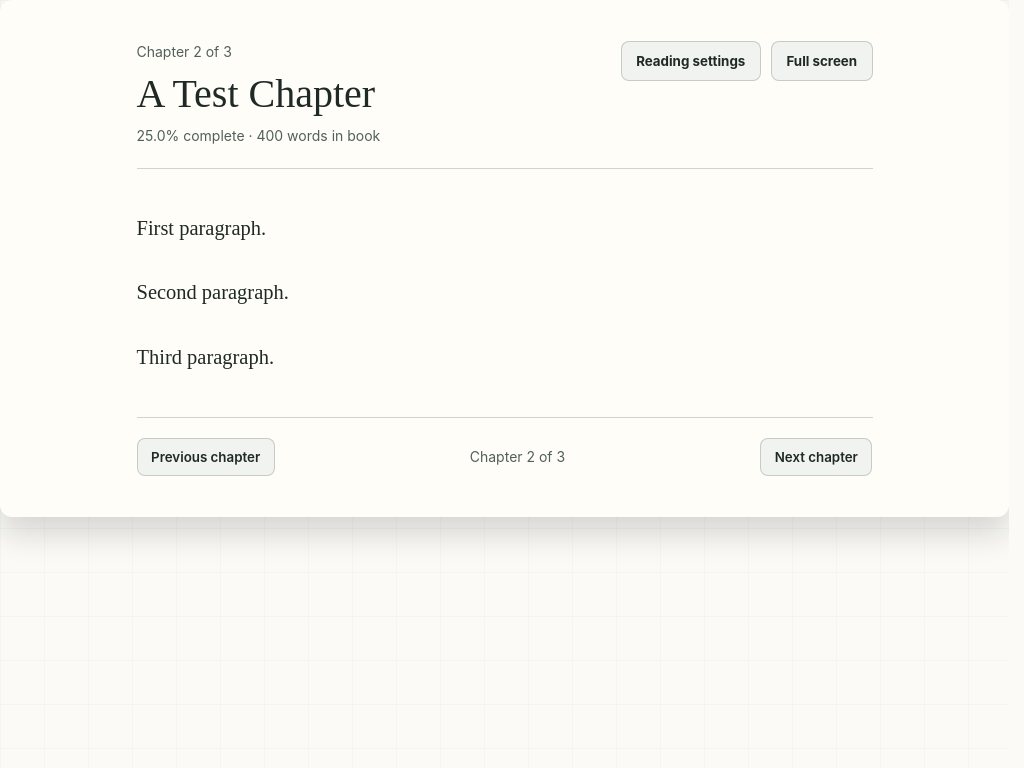
Test case: ImmersiveReader fullscreen › requests fullscreen and switches to continuous chapter flow
The image size is (1024, 768).
Step 1. Click the button "Full screen" → coordinates (822, 61), box 771,41 -> 872,81
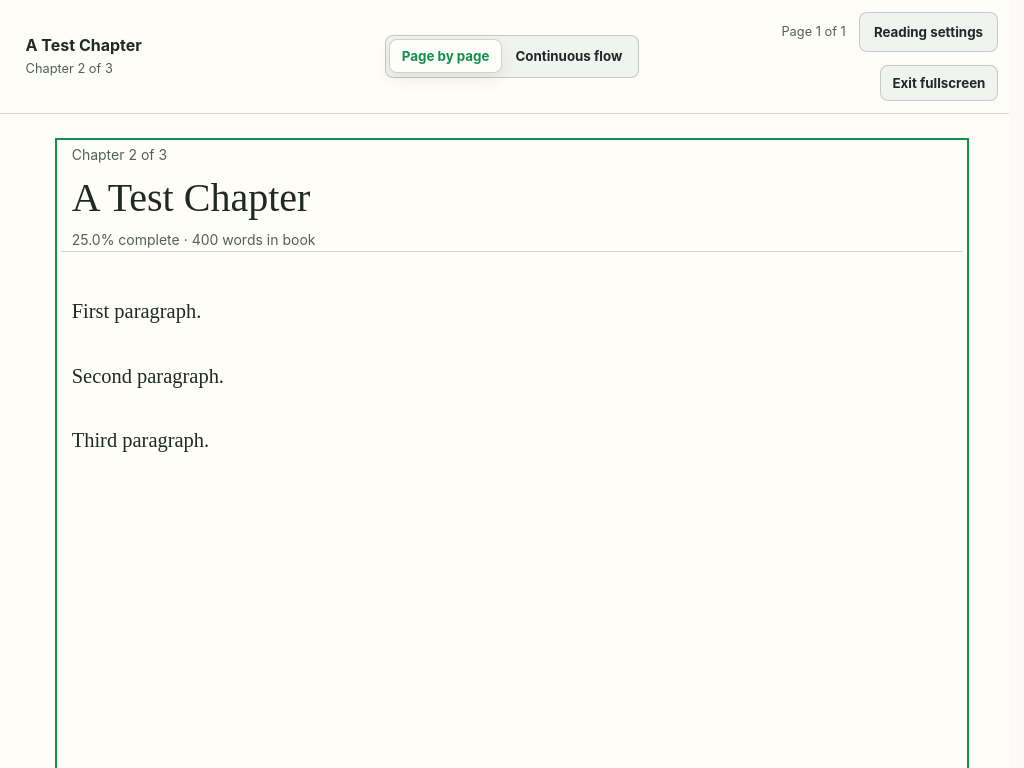
Result: the text "Page 1 of 1" is shown at 781,22 -> 846,42
Step 2. Click the button "Continuous flow" → coordinates (569, 56), box 502,39 -> 635,73
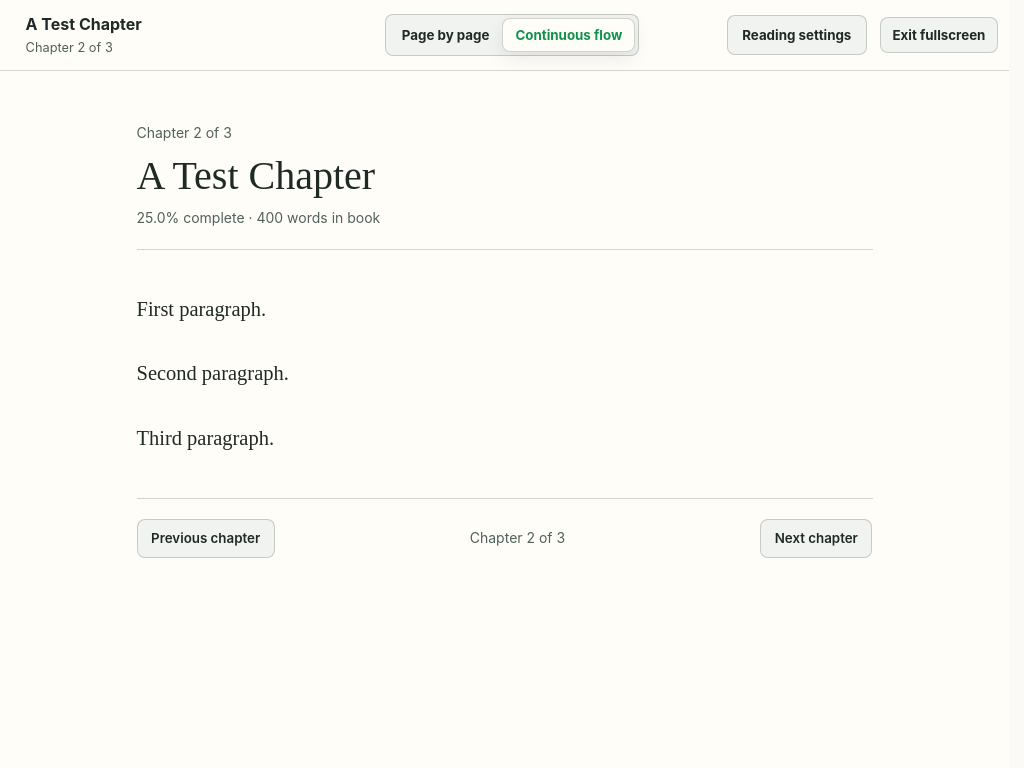
Expected: the text "First paragraph." is shown, 136,298 -> 266,320
Result: the element with class "continuous-viewport" is shown at 136,122 -> 872,558
Step 3. Click the button "Page by page" → coordinates (446, 35), box 389,18 -> 502,52
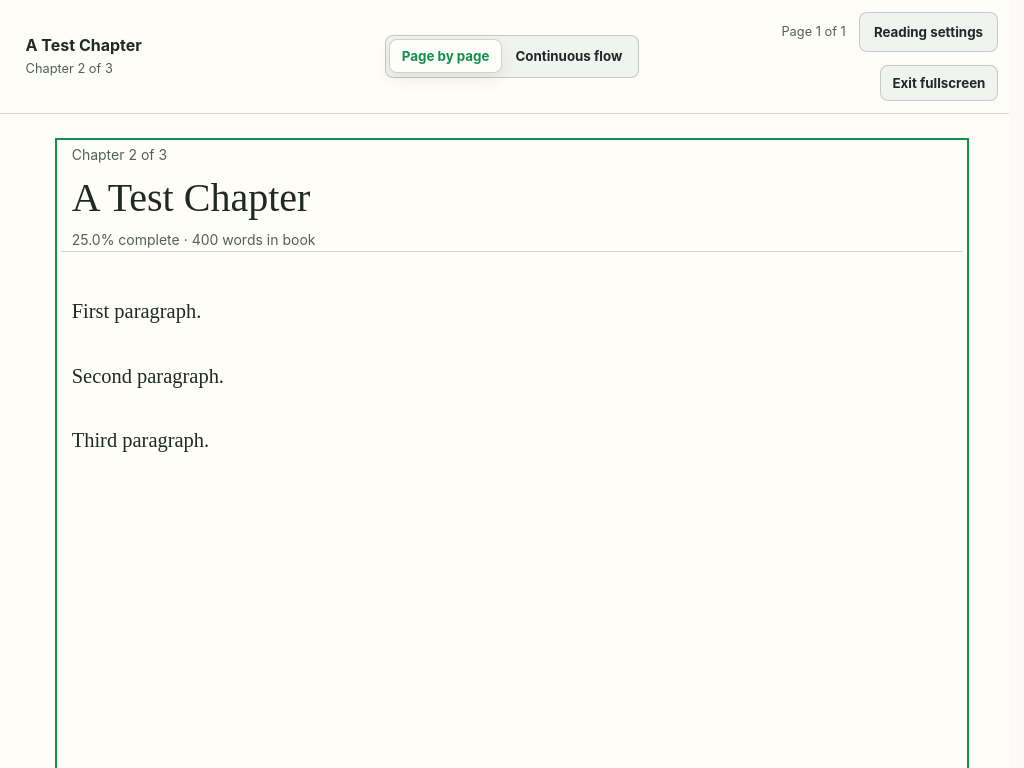
Result: the text "Page 1 of 1" is shown at 781,22 -> 846,42
Step 4. Click the button "Exit fullscreen" → coordinates (939, 83), box 880,65 -> 998,101
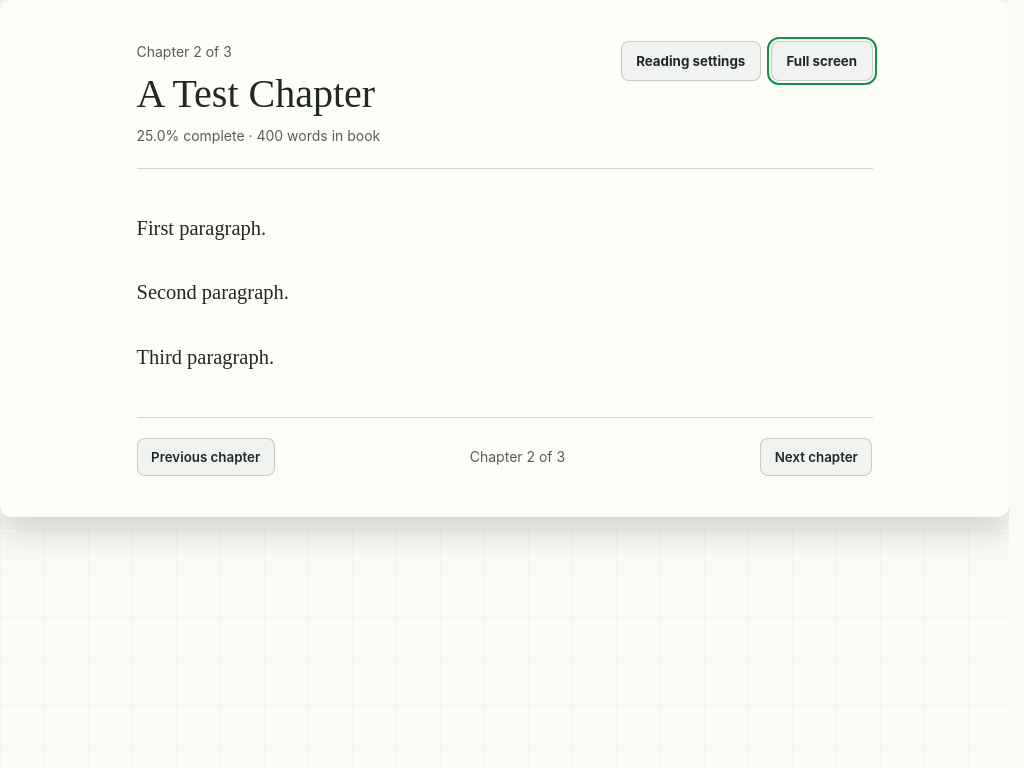
Result: the button "Full screen" is shown at 771,41 -> 872,81
